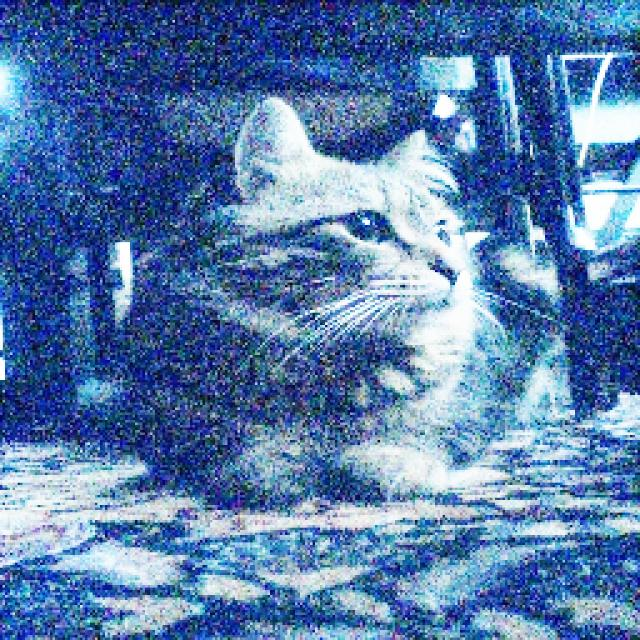cat: (130, 91, 562, 518)
